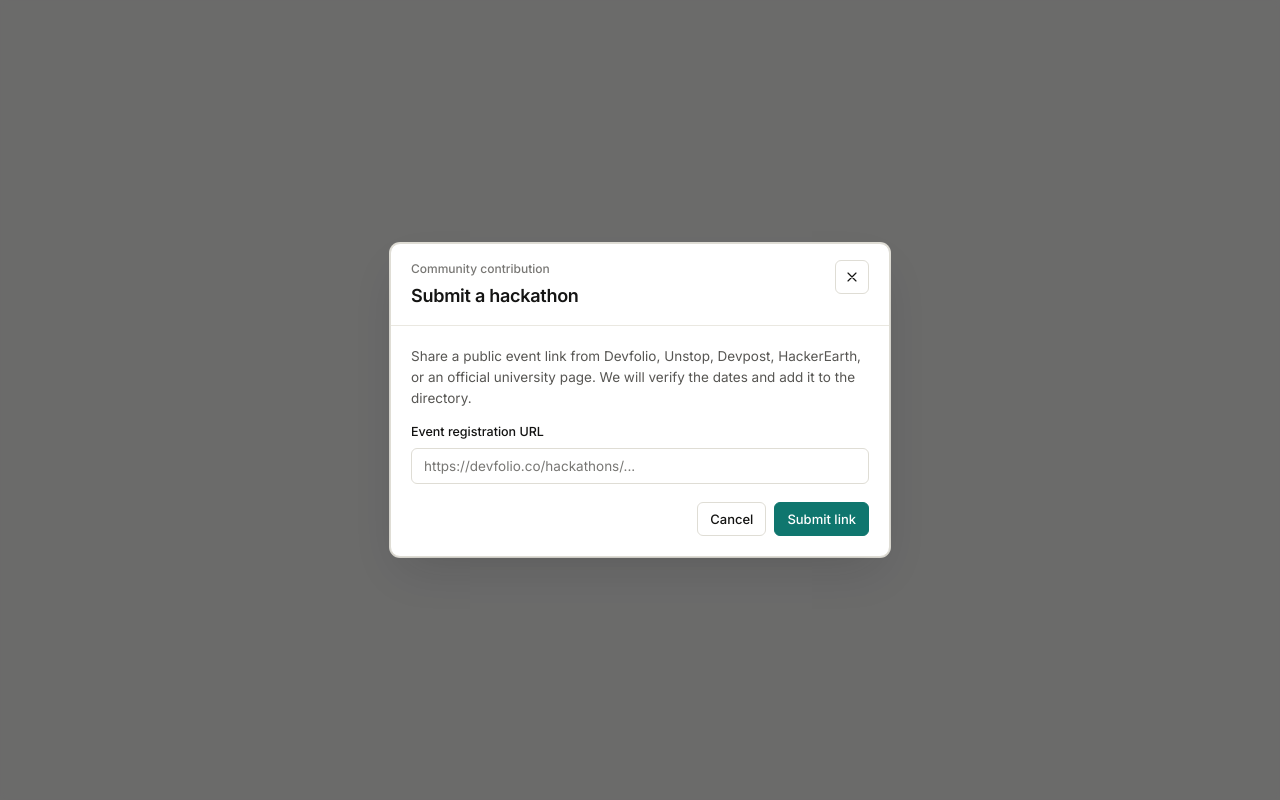
Scenario: AutoListModal Component › validates URL and warns if invalid URL is entered
Type "not-a-valid-url" into the field with placeholder "https://devfolio.co/hackathons/..." at (640, 466), box [411, 448, 869, 484]
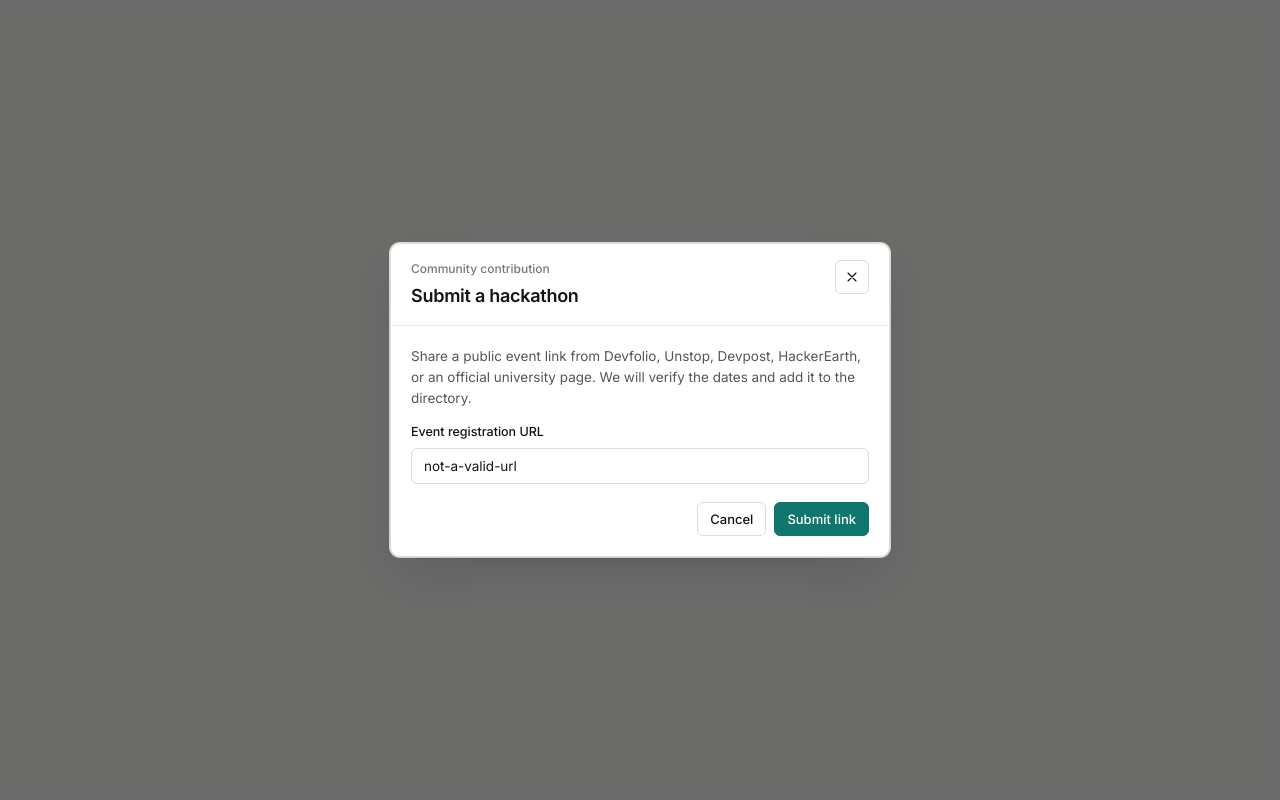
Submit the form, box [411, 346, 869, 536]
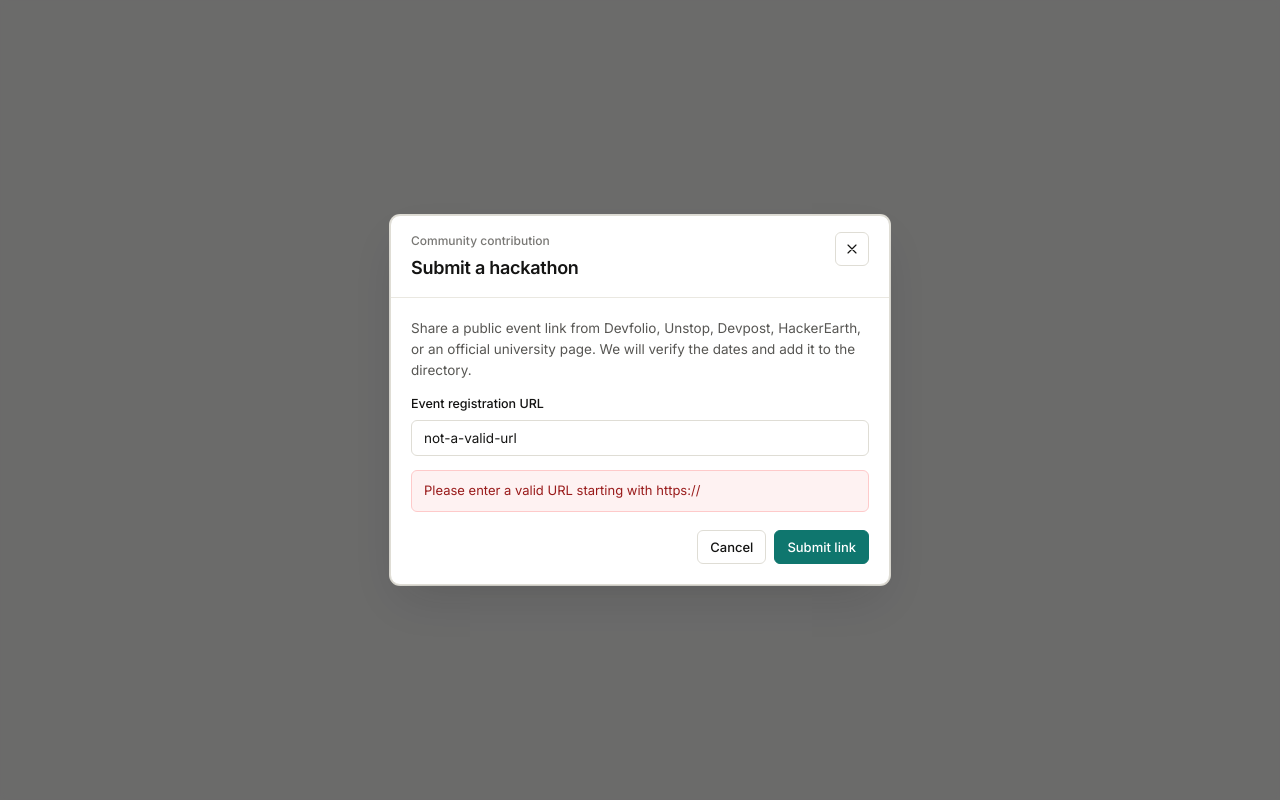
Check: the message shows "Please enter a valid URL", box [424, 482, 700, 498]
